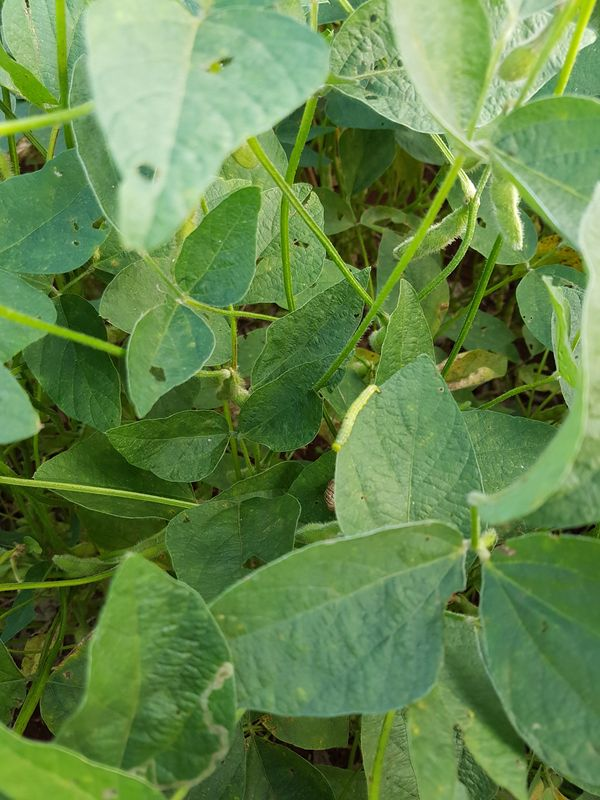Anticarsia_gemmatalis: (323, 376, 403, 456)
Gastropoda: (10, 128, 51, 177), (316, 473, 348, 516)
